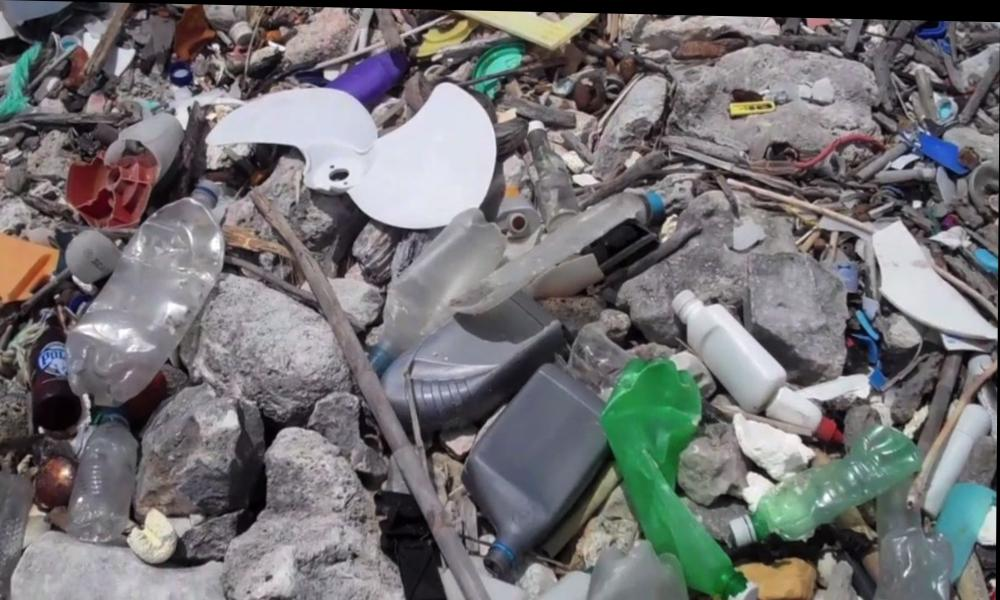plastic bag: (0, 45, 41, 146)
plastic bottle: (69, 176, 224, 400), (604, 354, 746, 592), (732, 417, 919, 539), (369, 202, 500, 373), (675, 285, 785, 409), (75, 410, 138, 546), (527, 120, 579, 231), (0, 463, 30, 600)
